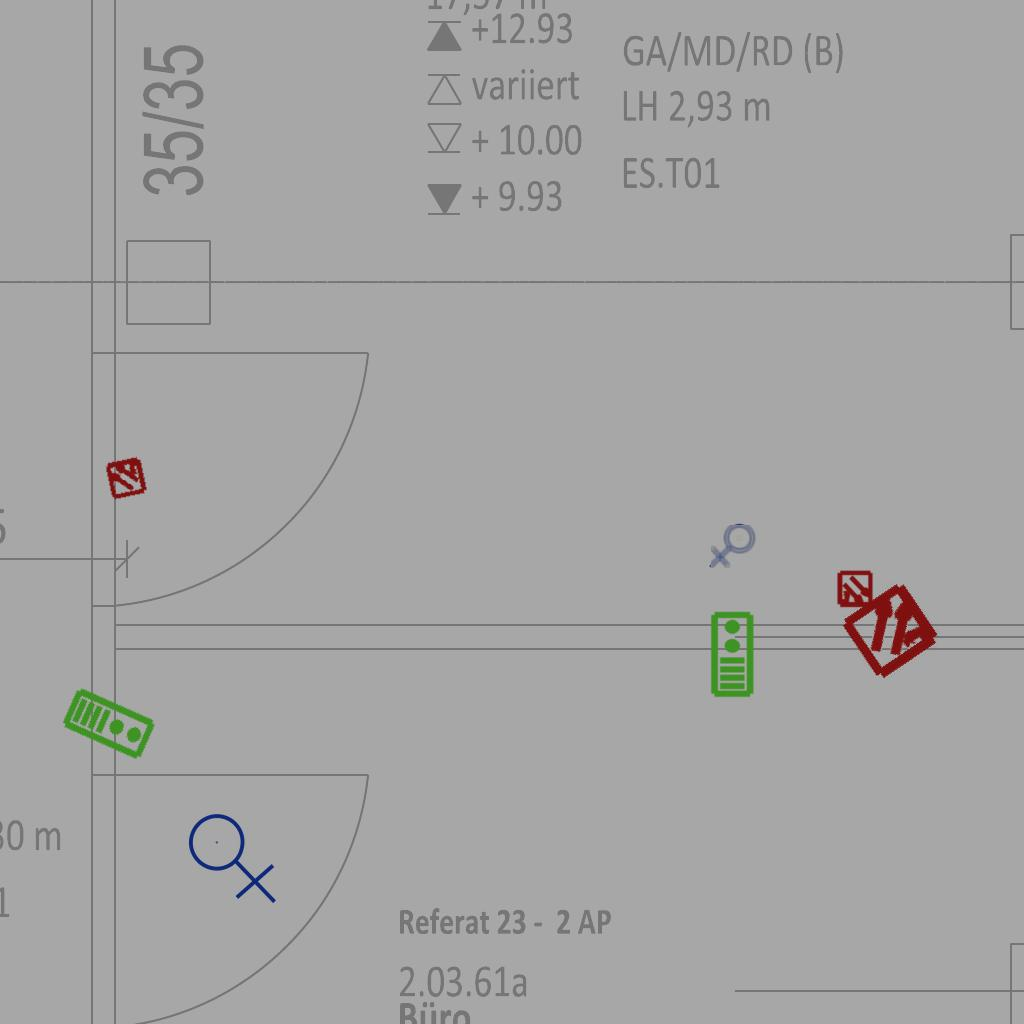Elektroanschluss_allgemein_230V_Geraeteanschlussdose_230V: (187, 805, 281, 904), (709, 523, 758, 570)
Gegensprechanlage_mit_Video: (59, 683, 160, 763), (708, 610, 755, 698)
OT_Multisensormelder_(Kombination_RMO_WMD): (814, 551, 971, 708), (92, 443, 160, 511), (827, 562, 883, 618)
